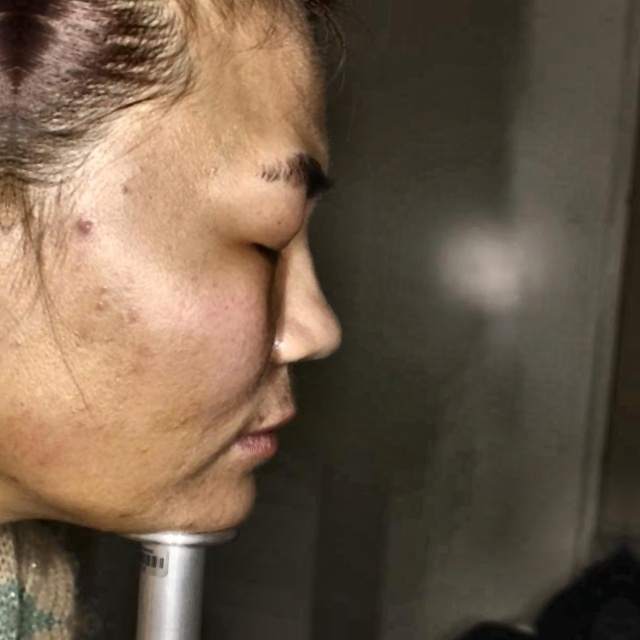comedone: (66, 210, 92, 246)
